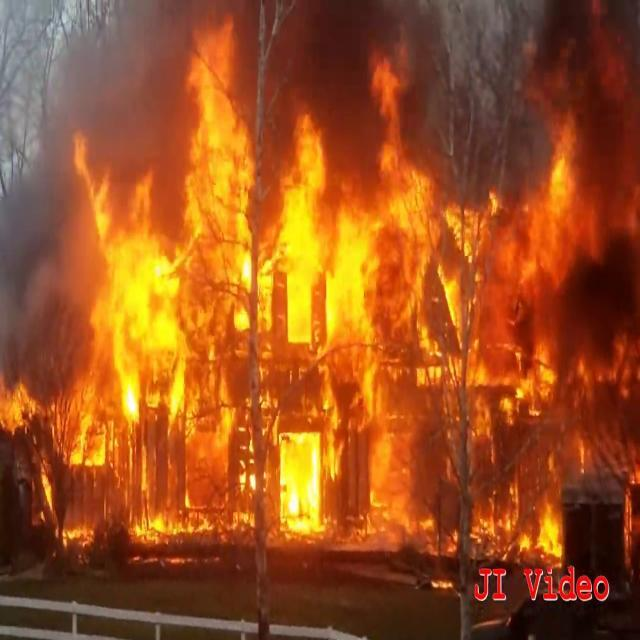Fire: (4, 32, 638, 556)
Smoke: (0, 3, 96, 368)
